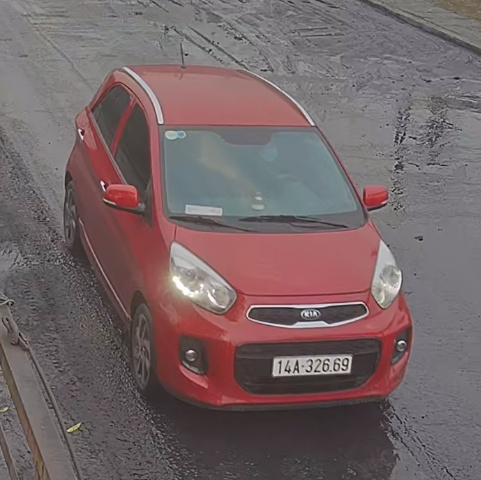vehicle plate: (271, 346, 356, 387)
